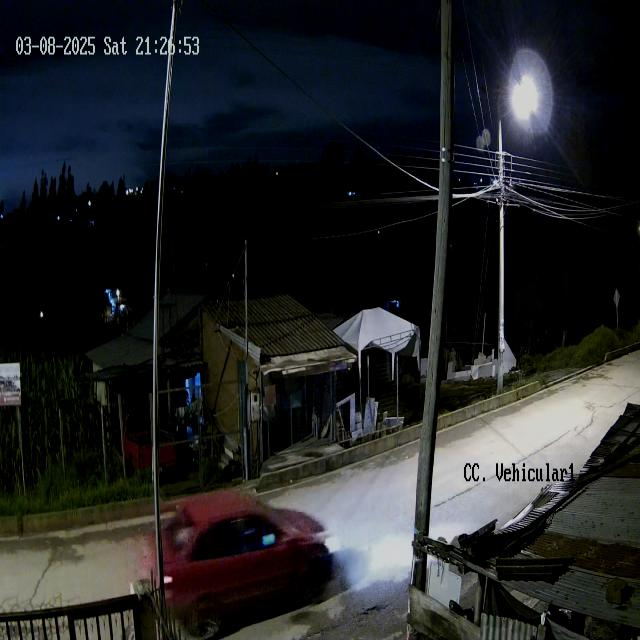SED: (159, 488, 337, 634)
